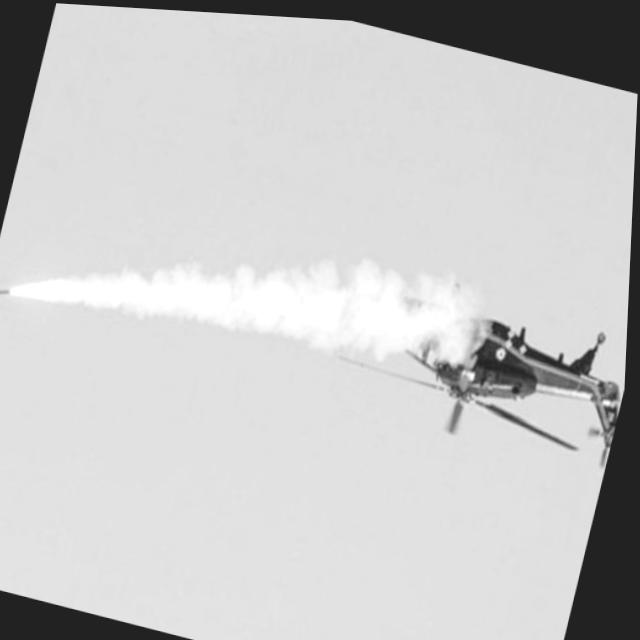helikopter: (346, 247, 632, 494)
